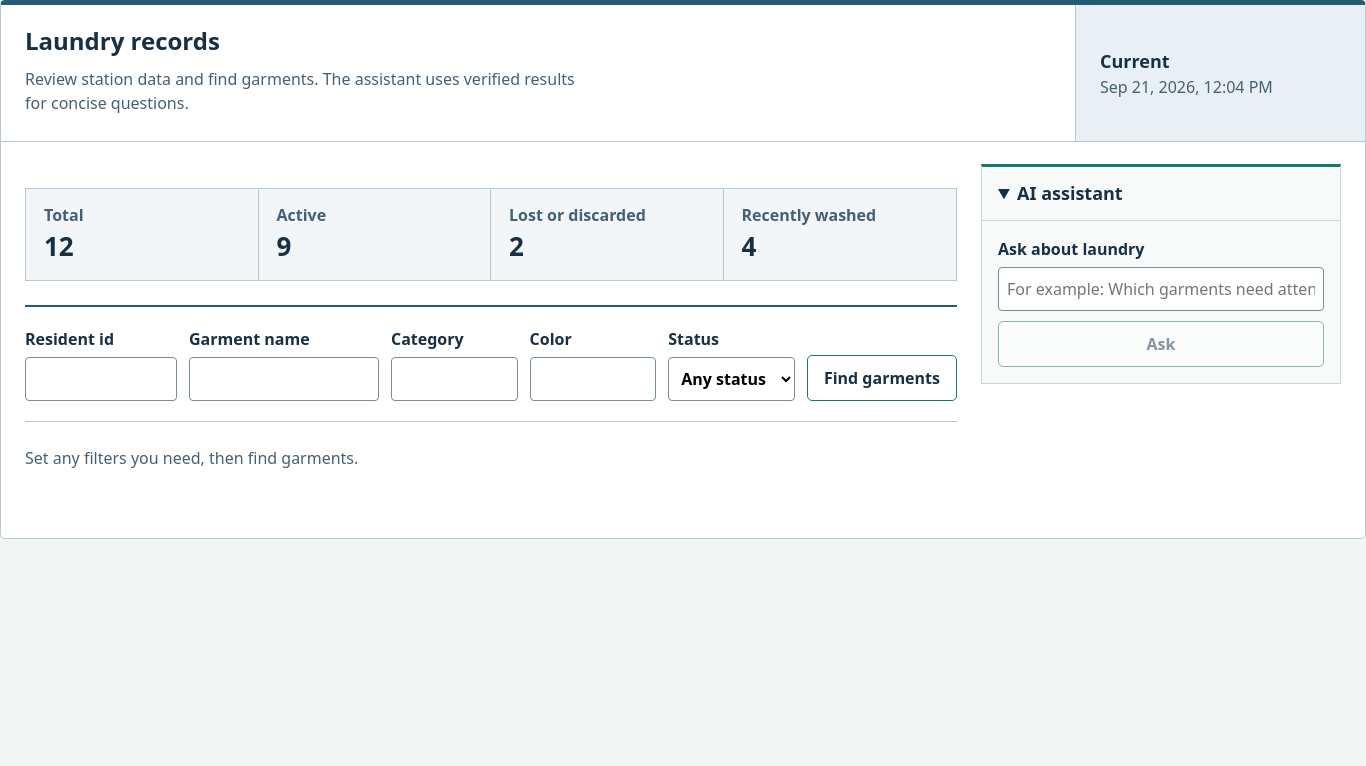
Scenario: does not invent verified answer freshness for failed results
Check: the text "12" is shown, box [44, 228, 74, 264]
Type "Summary?" into the field labelled "Ask about laundry".
click(1161, 289); type("Summary?")  # box [998, 267, 1324, 311]
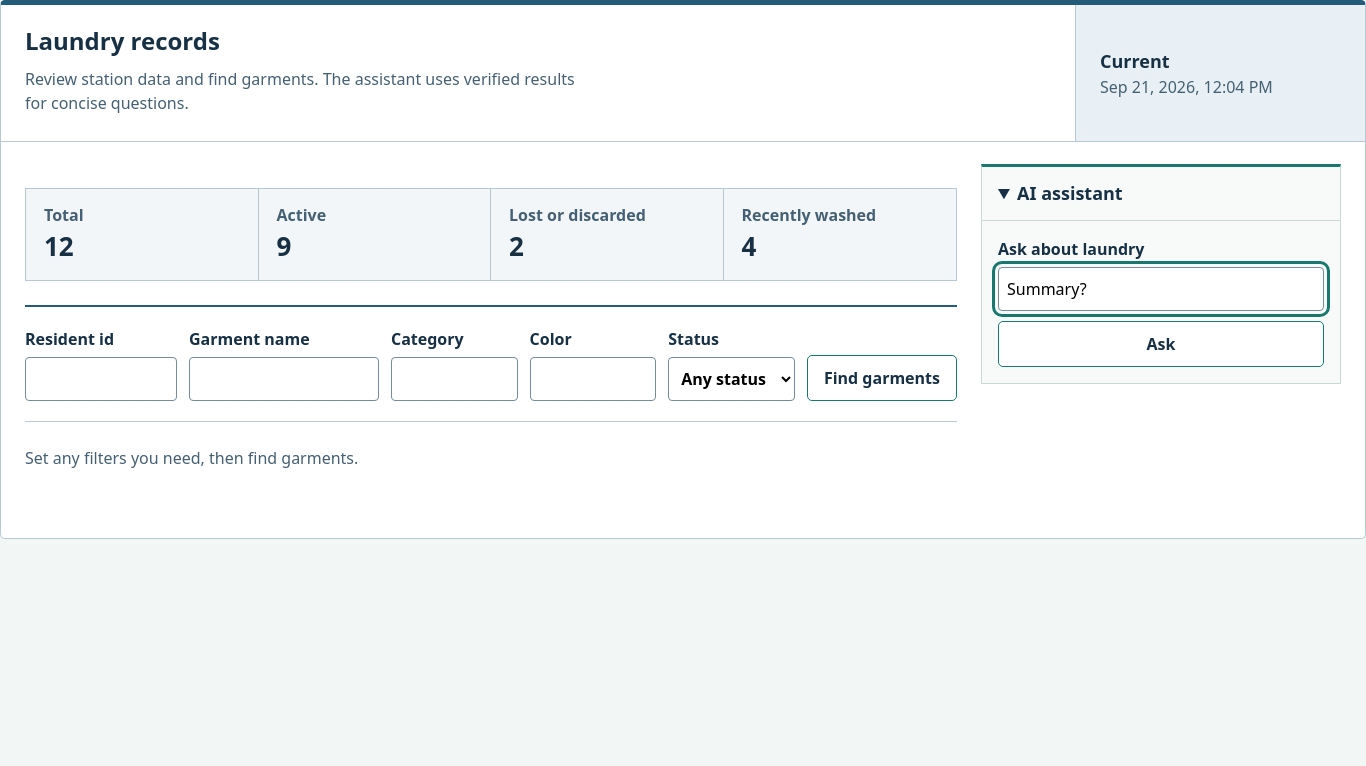
Click the button "Ask".
click(1161, 344)  # box [998, 321, 1324, 367]
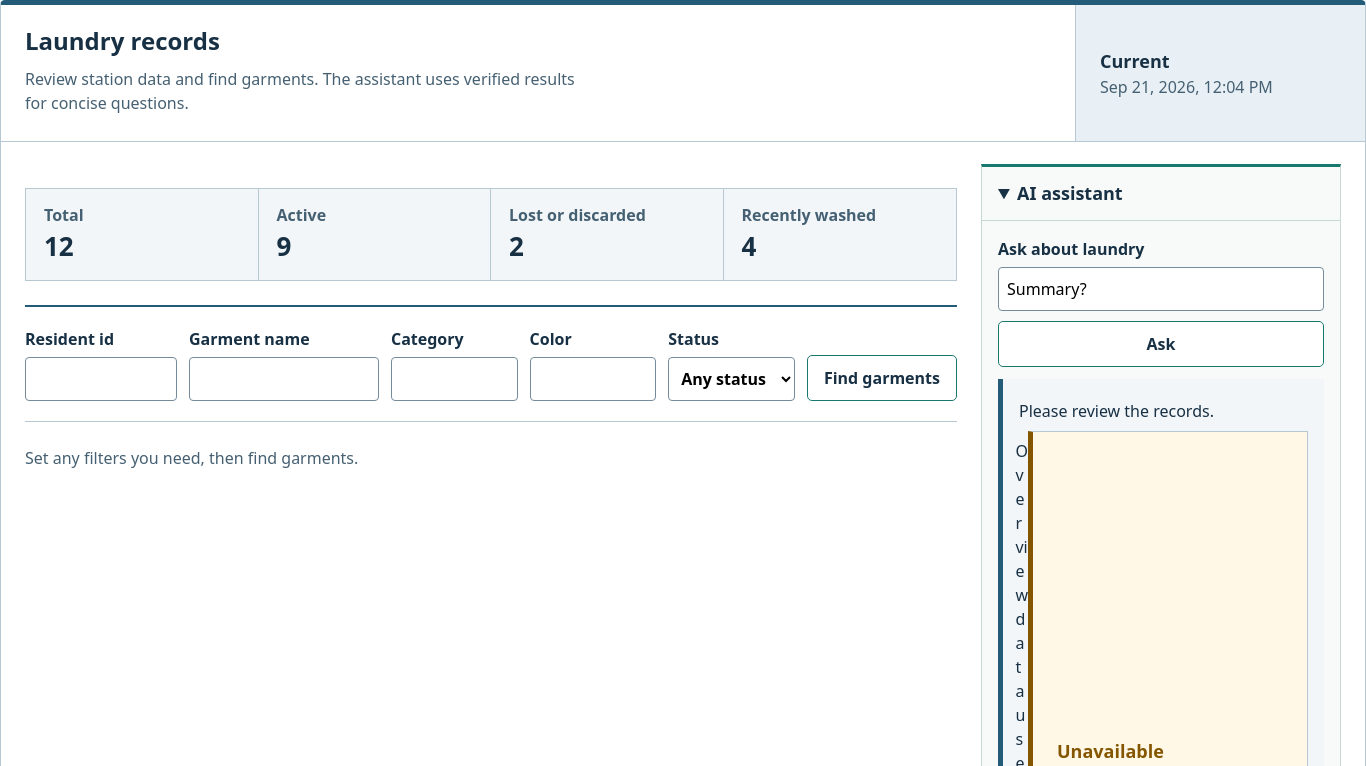
Check: the text "Unavailable" is shown, box [1057, 738, 1164, 762]
